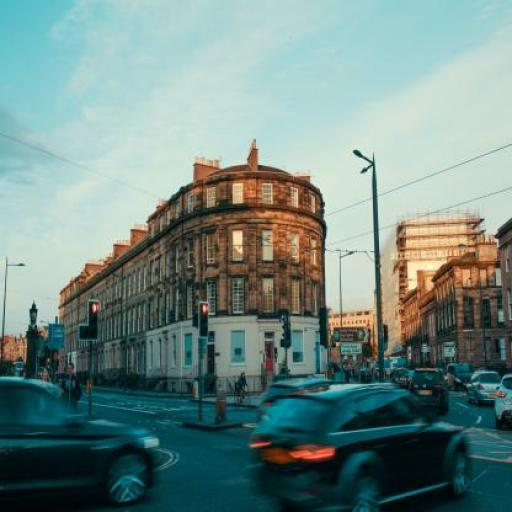street light: (353, 149, 385, 385), (0, 262, 25, 383), (341, 251, 356, 385), (41, 320, 52, 381)
